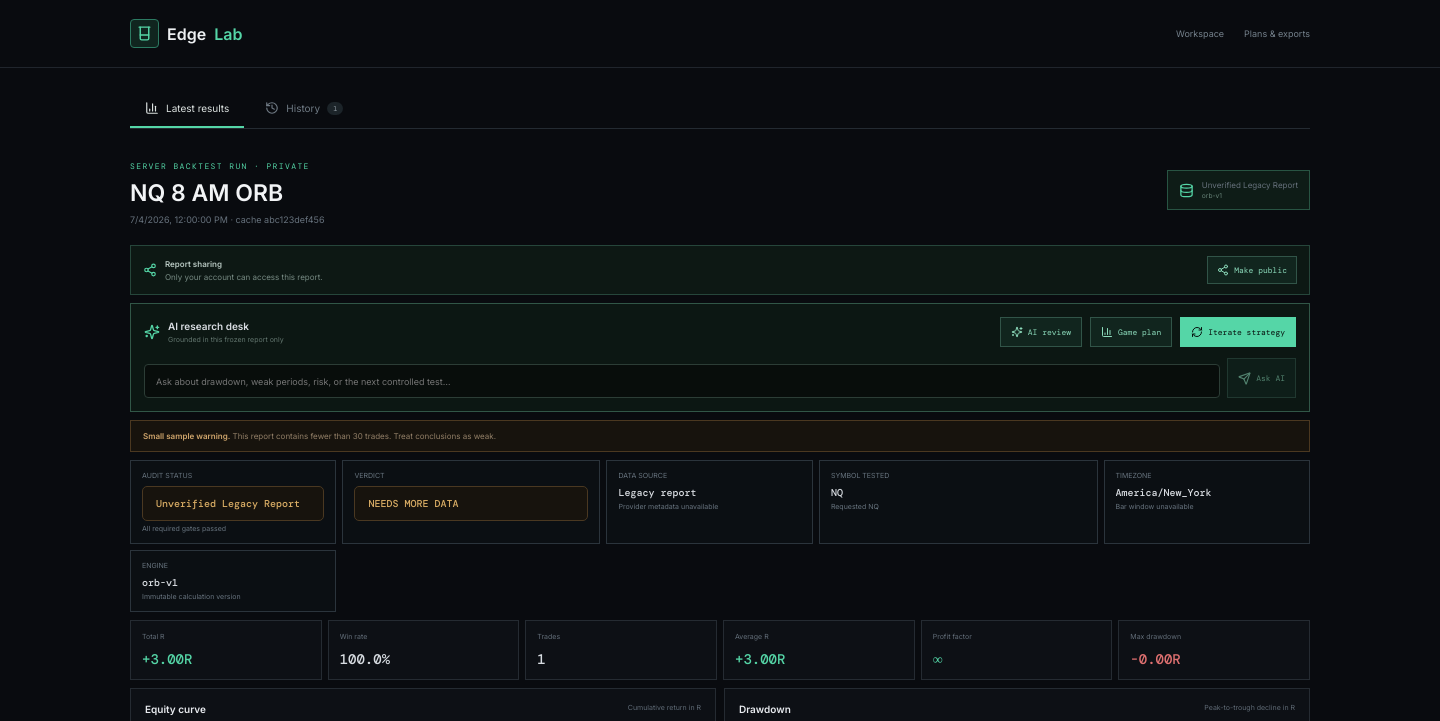
Test: server report pages › lists saved reports with their immutable result summary
The image size is (1440, 721).
Check: the heading "NQ 8 AM ORB" is shown, box [130,179,283,207]
Check: the text "+3.00R" below "Total R" is shown, box [142,650,192,668]
Click the button "History 1" at (304, 109), box [250,90,358,128]
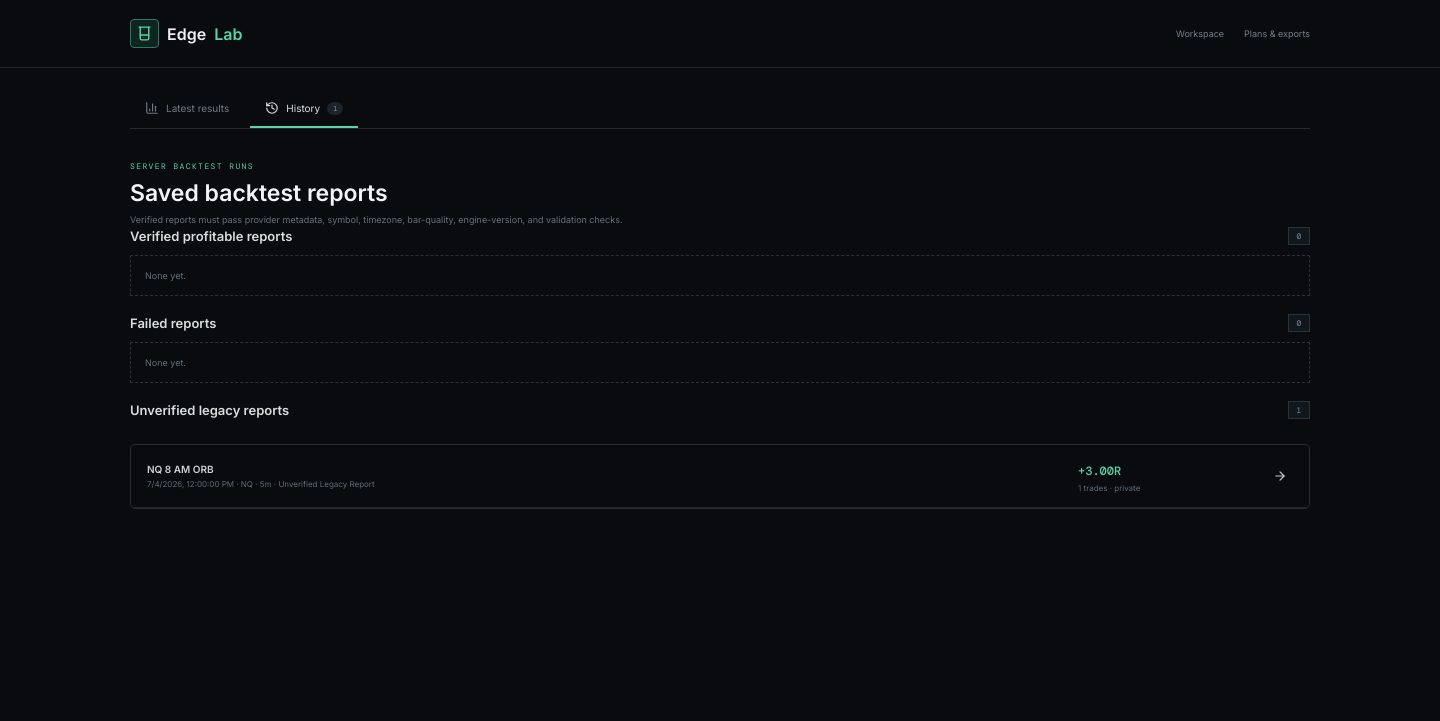
Check: the heading "Saved backtest reports" is shown, box [130,179,388,207]
Check: the heading "Unverified legacy reports 1" is shown, box [130,401,1310,419]
Check: the text "1 trades · private" is shown, box [1078,483,1140,493]
